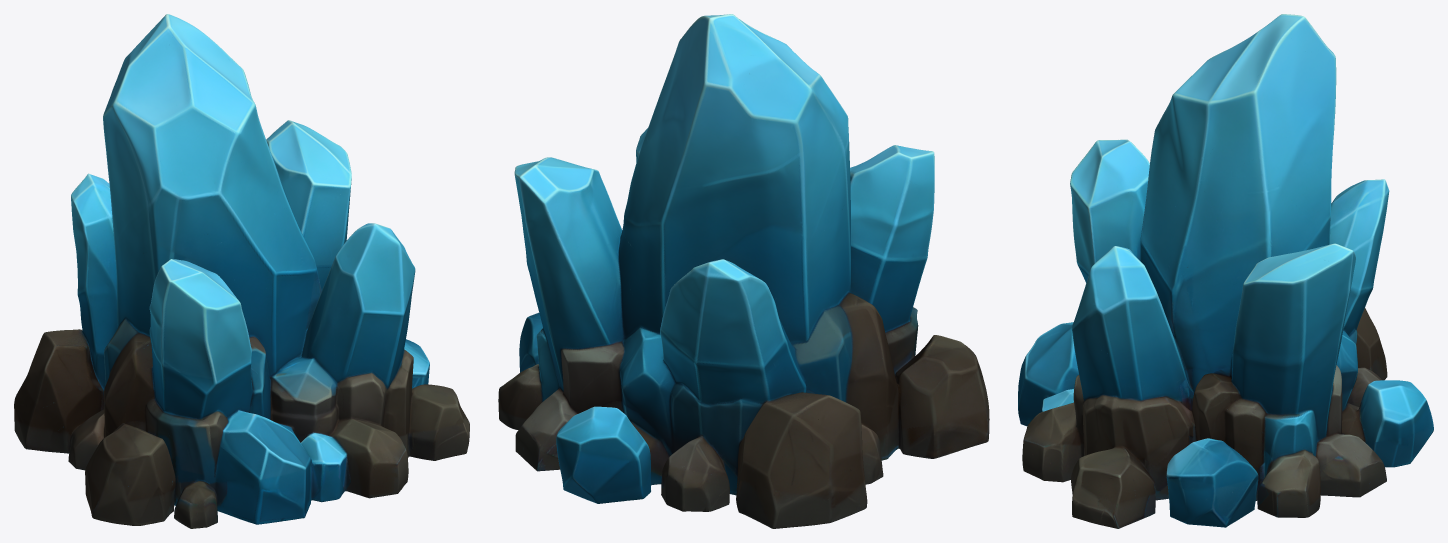
File: Azure_Crystal_Cluster.glb
The picture shows the model from 3 angles, left to right: view 1: azimuth 30°, elevation 25°; view 2: azimuth 150°, elevation 25°; view 3: azimuth 270°, elevation 25°; orthographic projection. The views are drawn at different scales.
Bounding box in the file's own units: 1.86 × 1.9 × 1.75.
1 material, 1 textured.
